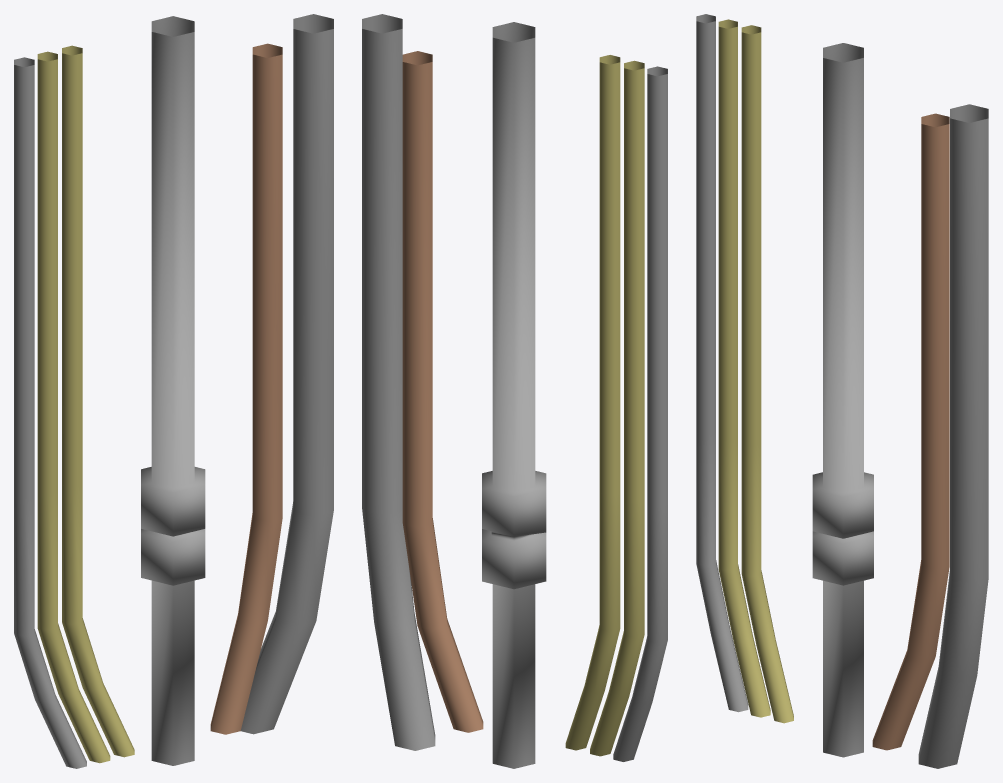
The model's file is GameCabinetUpwardPipes.fbx.
The picture shows the model from 3 angles, left to right: view 1: azimuth 30°, elevation 25°; view 2: azimuth 150°, elevation 25°; view 3: azimuth 330°, elevation 25°; orthographic projection. The views are drawn at different scales.
Parts seen in each view (by area): view 1: Cylinder, Wire1, Wire1.001, Wire1.004, Wire1.003, Wire1.002; view 2: Cylinder, Wire1, Wire1.001, Wire1.002, Wire1.004, Wire1.003; view 3: Cylinder, Wire1, Wire1.001, Wire1.002, Wire1.003, Wire1.004.
Part boxes in pixels (x1=…): Cylinder: x1=141, y1=16, x2=205, y2=765; Wire1: x1=240, y1=14, x2=333, y2=734; Wire1.001: x1=210, y1=43, x2=282, y2=734; Wire1.004: x1=37, y1=51, x2=110, y2=763; Wire1.003: x1=14, y1=57, x2=86, y2=768; Wire1.002: x1=62, y1=45, x2=134, y2=757; Cylinder: x1=482, y1=22, x2=546, y2=768; Wire1: x1=362, y1=14, x2=435, y2=750; Wire1.001: x1=402, y1=51, x2=483, y2=732; Wire1.002: x1=565, y1=55, x2=620, y2=750; Wire1.004: x1=590, y1=60, x2=644, y2=756; Wire1.003: x1=613, y1=66, x2=667, y2=761; Cylinder: x1=812, y1=43, x2=873, y2=757; Wire1: x1=918, y1=104, x2=988, y2=768; Wire1.001: x1=872, y1=113, x2=949, y2=750; Wire1.002: x1=741, y1=25, x2=793, y2=723; Wire1.003: x1=696, y1=14, x2=748, y2=712; Wire1.004: x1=718, y1=19, x2=770, y2=717.
Bounding box in the file's own units: 2.09 × 4.66 × 0.4129.
